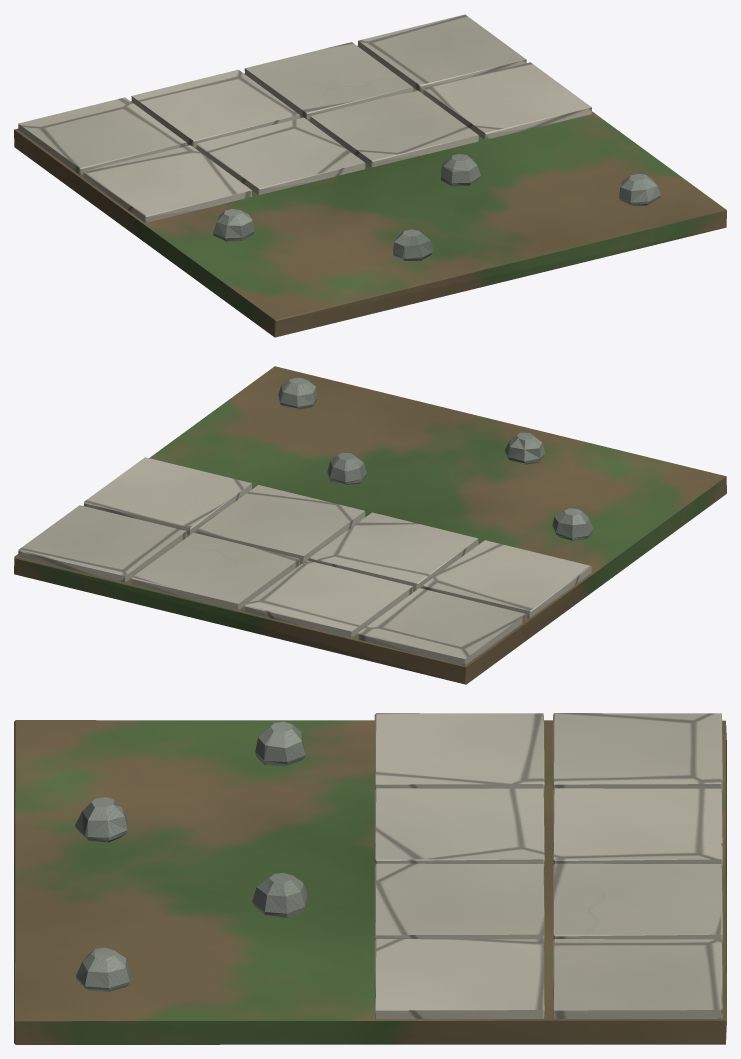
Rendered from t05_transition_straight_lod1.fbx.
3 views of the same model, one above another, from view 1: azimuth 30°, elevation 25°; view 2: azimuth 150°, elevation 25°; view 3: azimuth 270°, elevation 25° (orthographic). The views are drawn at different scales.
Visible parts, largest first — view 1: t05_transition_straight.005; view 2: t05_transition_straight.005; view 3: t05_transition_straight.005.
Boxes of the visible parts, box(x1,y1,x2,y2) form: t05_transition_straight.005: box(14, 14, 726, 337); t05_transition_straight.005: box(14, 366, 726, 684); t05_transition_straight.005: box(14, 713, 726, 1044).
Size of the model in its own units: 25600 by 25546 by 2183.
